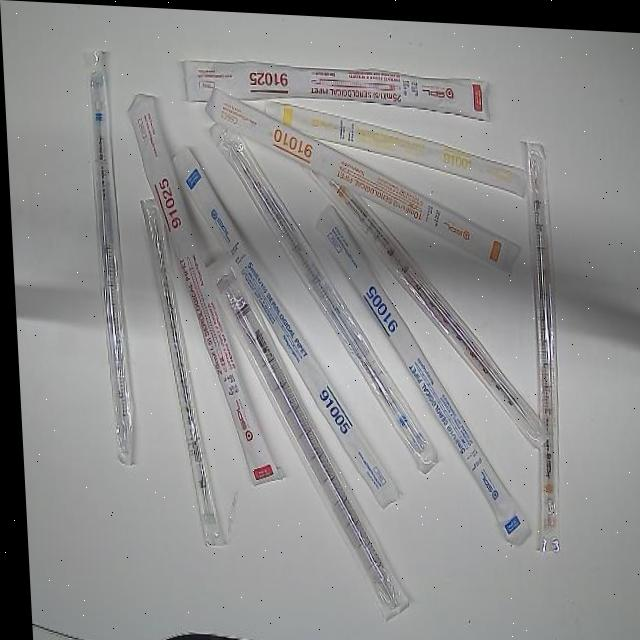Serelogical Pipet 1 mL - Sealed: (261, 95, 537, 197)
Serelogical Pipet 10 mL - Sealed: (307, 159, 547, 444), (204, 86, 525, 271), (517, 134, 568, 558)
Serelogical Pipet 2 mL - Sealed: (136, 193, 225, 549)
Serelogical Pipet 25 mL - Sealed: (123, 88, 282, 487), (178, 53, 495, 120)
Serelogical Pipet 5 mL - Sealed: (168, 143, 400, 508), (206, 113, 439, 473), (309, 198, 528, 543), (83, 41, 141, 469)
Serelogical Pipet 50 mL - Sealed: (201, 250, 411, 617)
